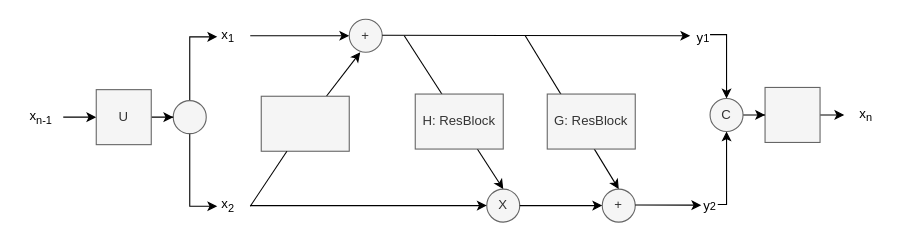
This 906x242 diagram has some shape labels left out. Each missing label, with the centre of its shape:
"F: Denseblock" belongs at point (304, 123).
"Split" belongs at point (189, 117).
"U T" belongs at point (792, 114).
